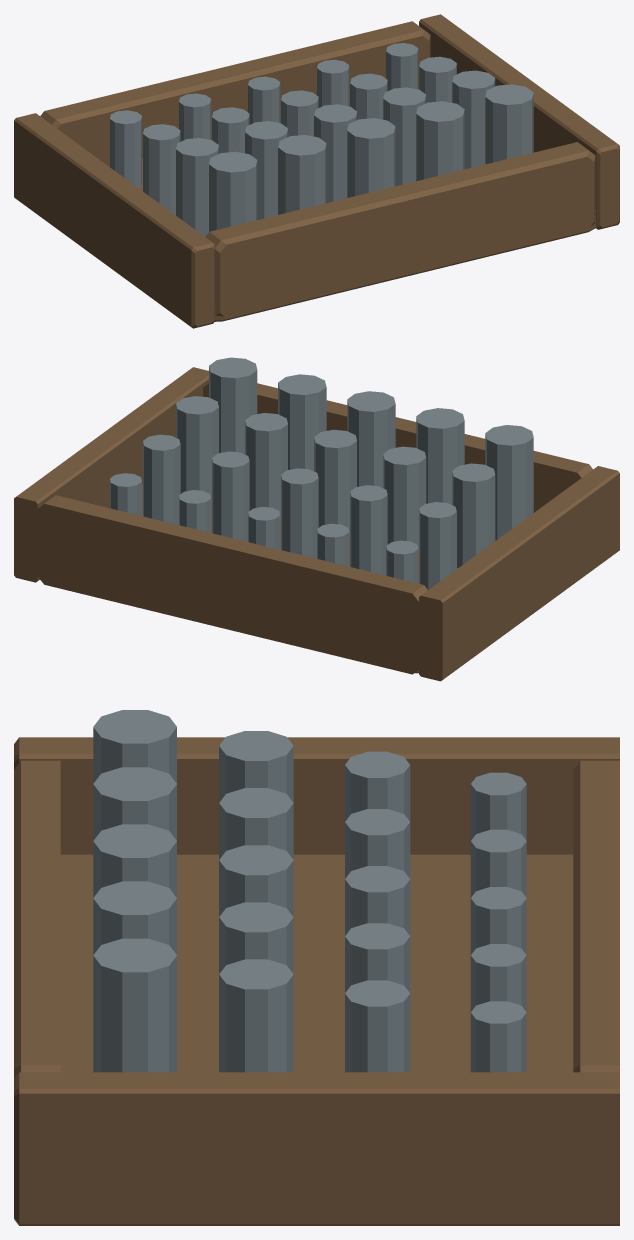
Rendered from F-11_punch_set.glb.
3 renders of one model, top to bottom at view 1: azimuth 30°, elevation 25°; view 2: azimuth 150°, elevation 25°; view 3: azimuth 270°, elevation 25°, orthographic. The views are drawn at different scales.
Visible parts, largest first — view 1: F-11_punch_set; view 2: F-11_punch_set; view 3: F-11_punch_set.
Boxes of the visible parts, x1,y1,x2,y2 form: F-11_punch_set: (14, 14, 619, 328); F-11_punch_set: (14, 357, 619, 681); F-11_punch_set: (14, 710, 619, 1225).
Size of the model in its own units: 0.36 by 0.099 by 0.26.
